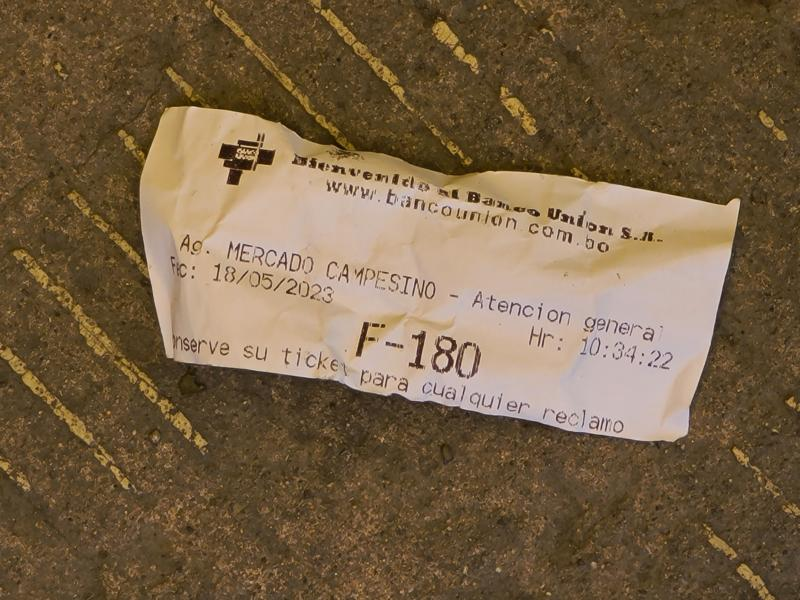papel: (136, 107, 742, 444)
